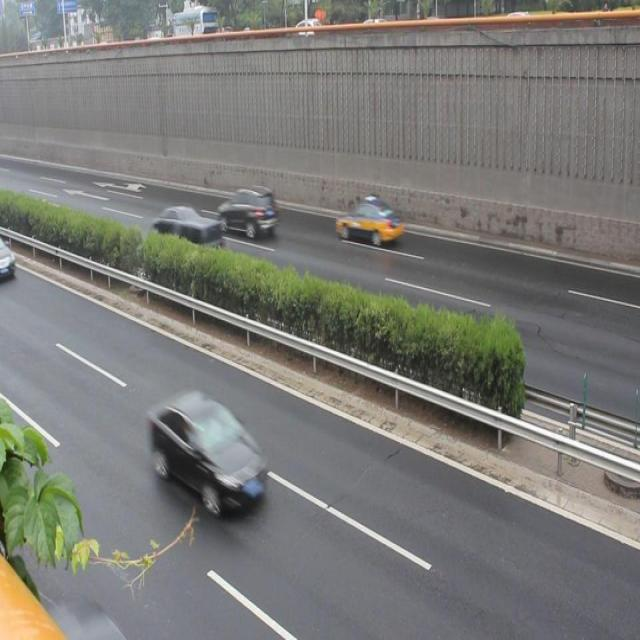car: (144, 384, 270, 526), (148, 200, 223, 265), (332, 193, 404, 255), (214, 182, 276, 240)
